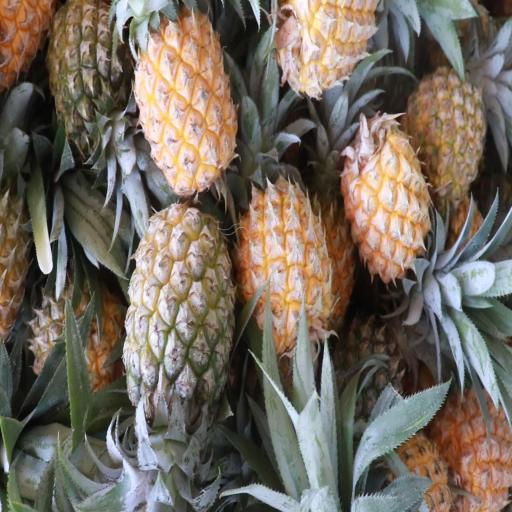------------------------------: (127, 199, 232, 419), (34, 274, 125, 409), (409, 67, 486, 201)
Pineapple - v8 v1: (136, 5, 236, 188), (242, 182, 330, 349), (343, 112, 429, 282), (435, 373, 512, 512), (278, 0, 390, 91)
